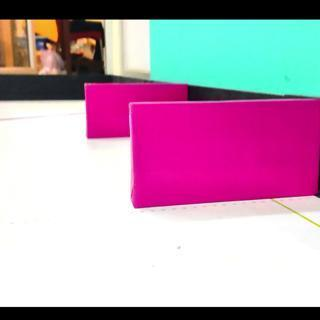xparking: (134, 104, 316, 211), (87, 84, 129, 138)
